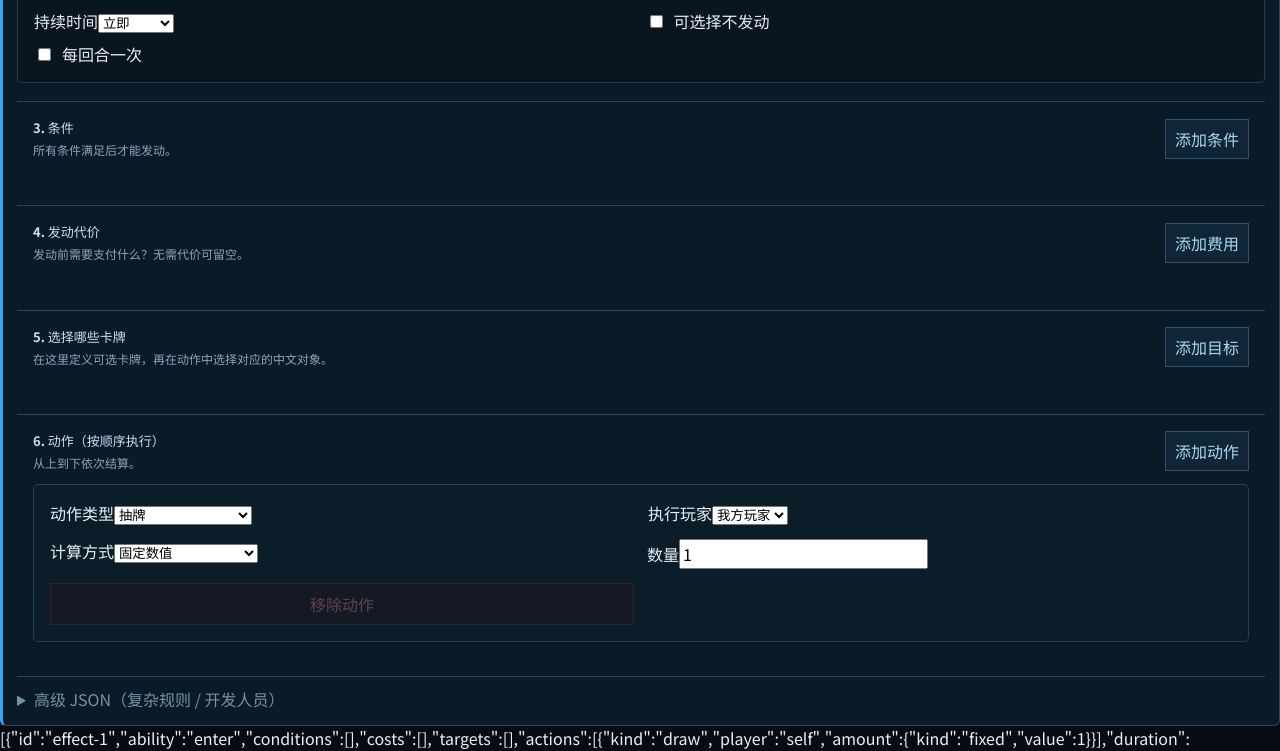
Scenario: EffectBuilder › preserves action order and removes irrelevant fields when the action kind changes
The image size is (1280, 751).
(page scrolled)
Click the button "添加动作" at x=1207, y=451, box [1165,431,1249,471]
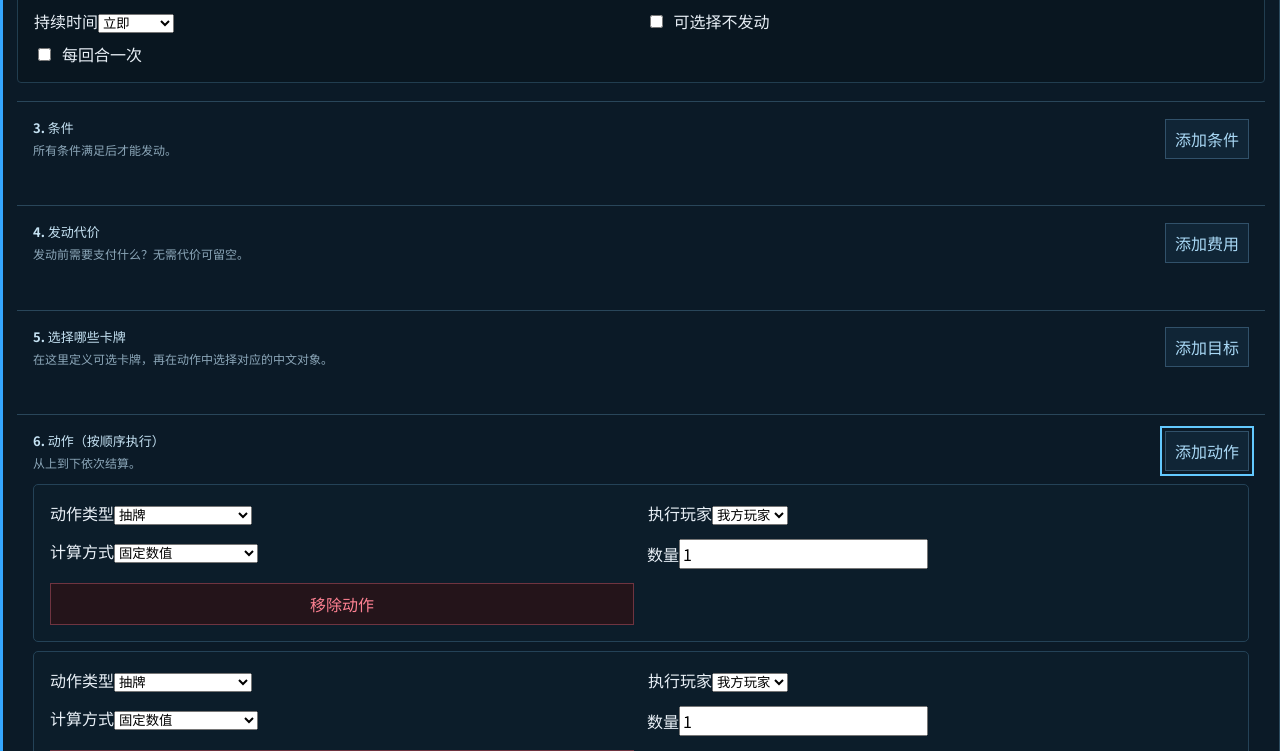
Select "舍弃所选卡牌" in the 2nd dropdown labelled "动作类型" at x=183, y=682, box [114,673,252,692]
(page scrolled)
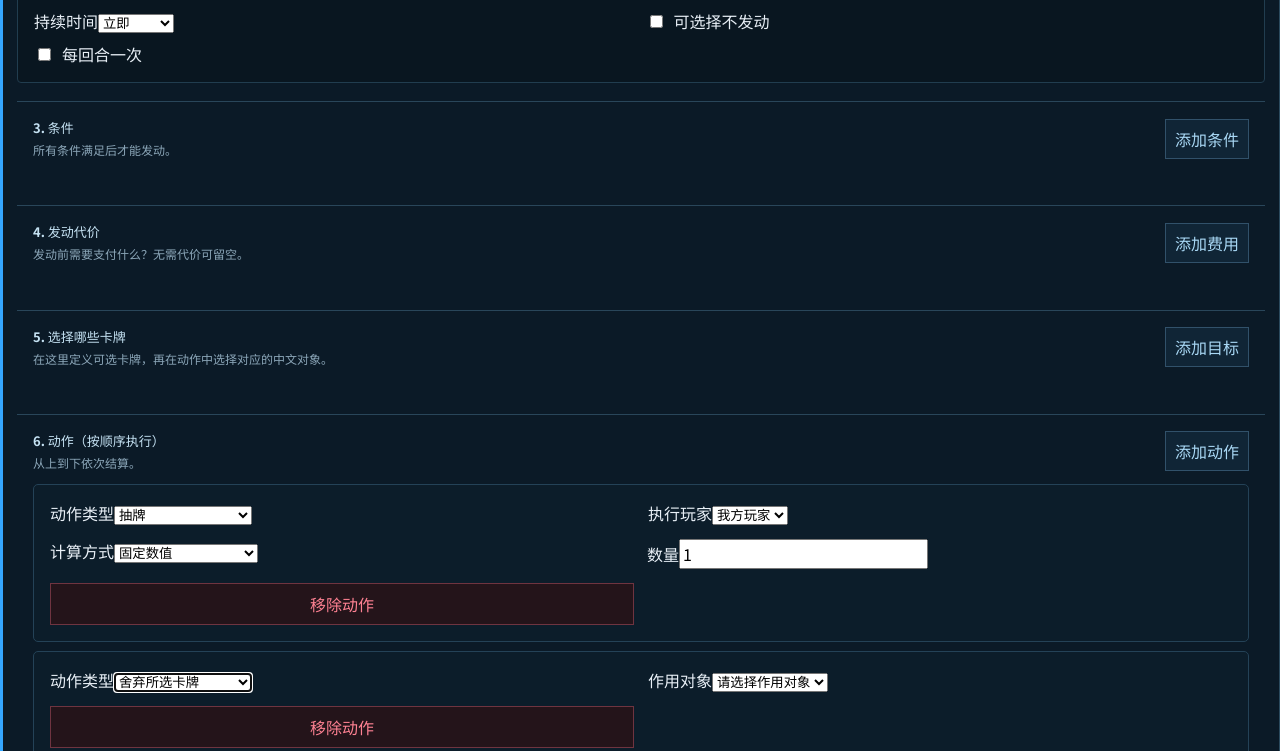
Click the button "添加目标" at x=1207, y=347, box [1165,327,1249,367]
(page scrolled)
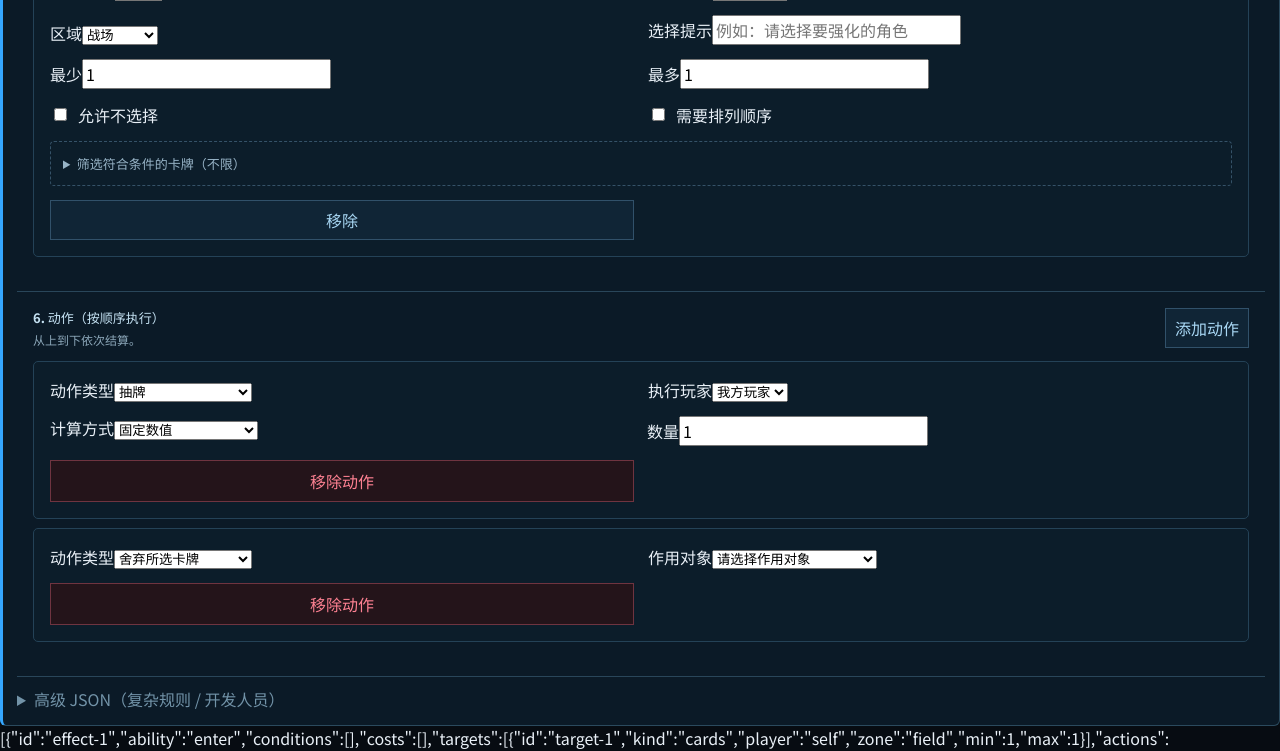
Select "对象 1 · 我方战场的卡牌" in the dropdown labelled "作用对象" at x=794, y=560, box [712,550,877,569]
(page scrolled)
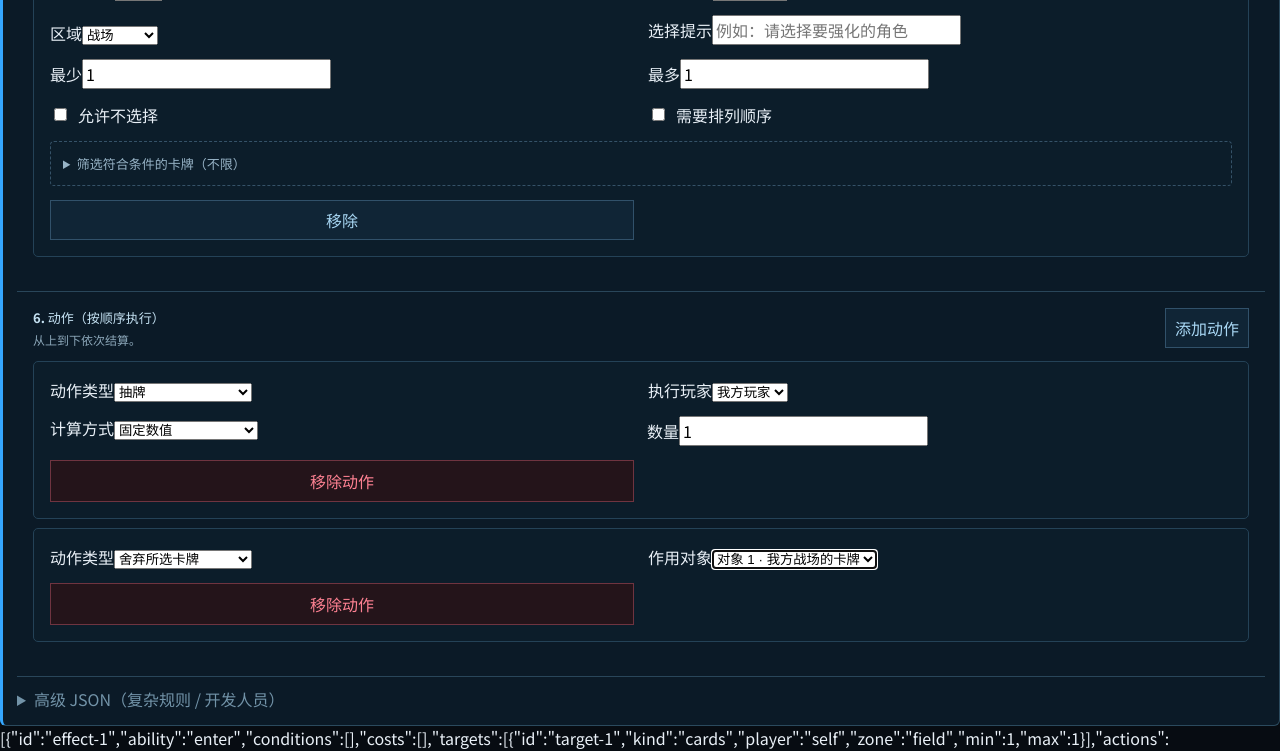
Select "横置" in the 1st dropdown labelled "动作类型" at x=183, y=392, box [114,383,252,402]
(page scrolled)
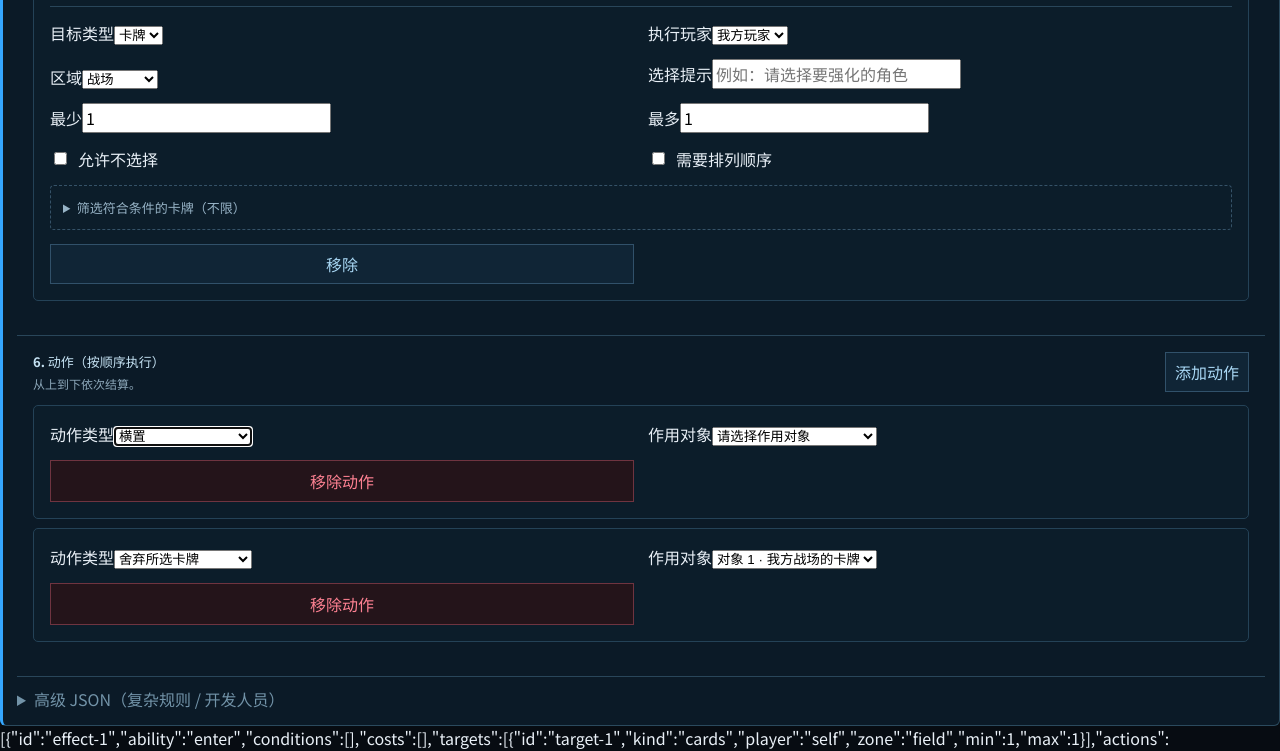
Expected: the label labelled "数量" is gone
Expected: the 1st dropdown labelled "作用对象" is shown, [712,427,877,446]
